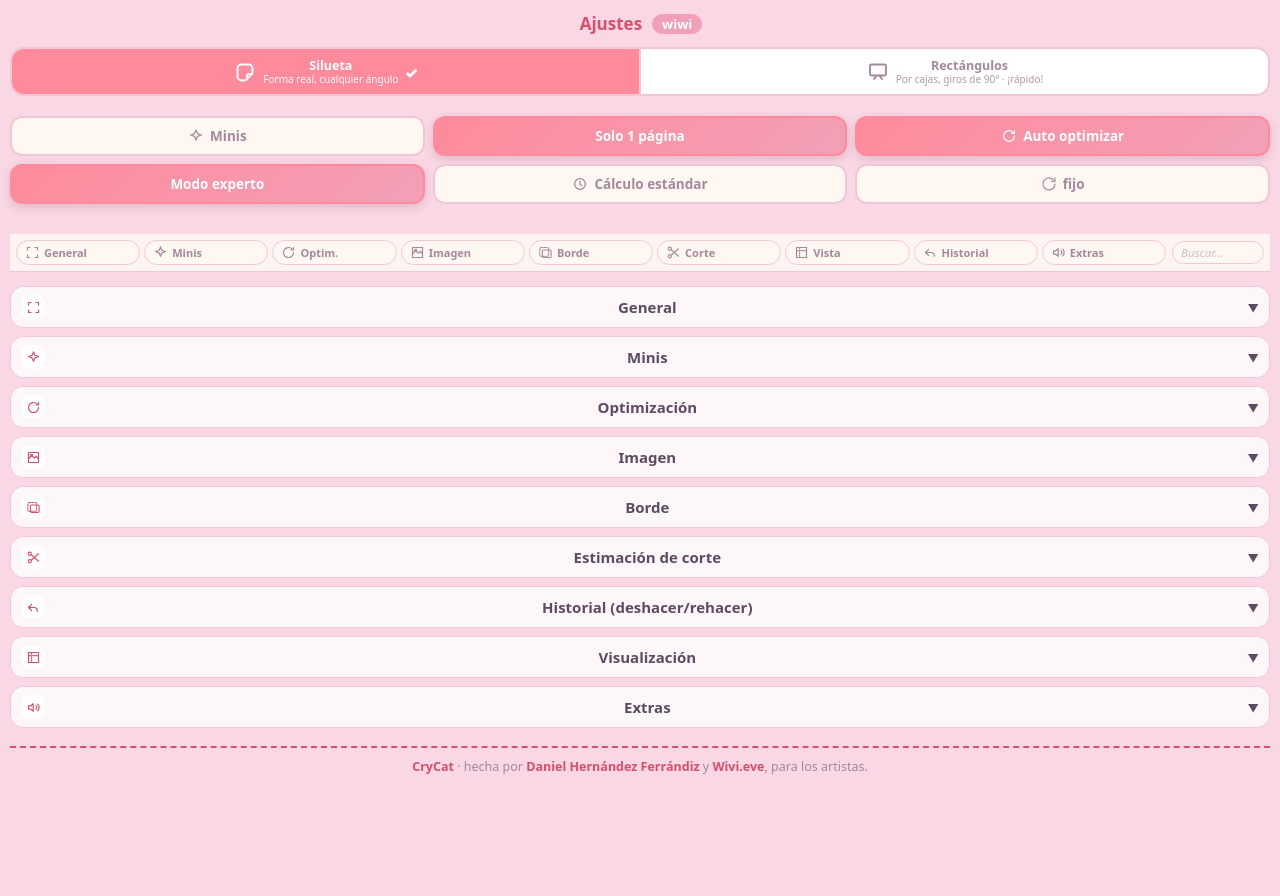
Scenario: Panel de ajustes › General empieza MINIMIZADO y se abre al pulsarlo
Click the 2nd text "General" at (647, 307), box [618,297,677,317]
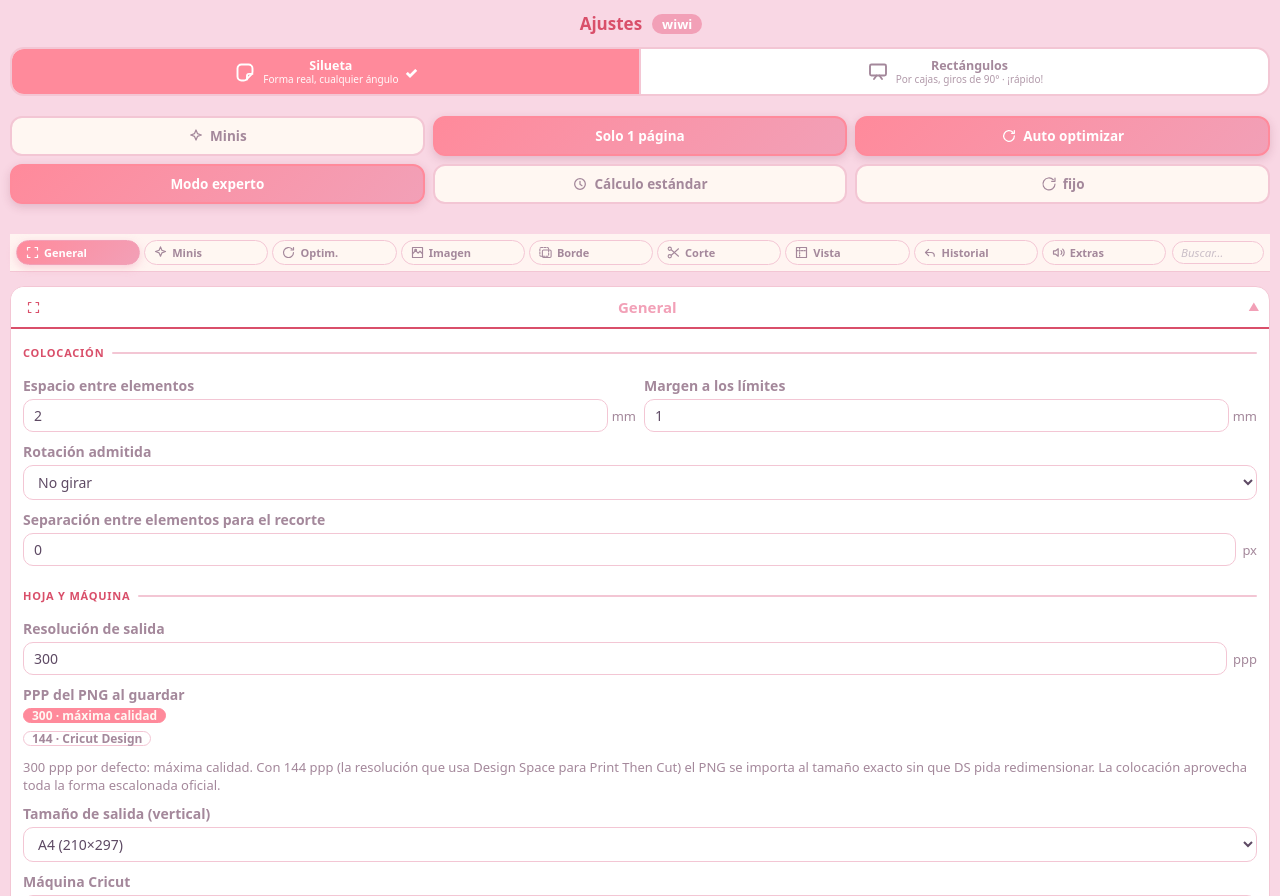
expect the number field with test id "set-espacio_mm" holds "2": met, box [23,399,608,432]
expect the dropdown with test id "set-rotacion" shows "No girar": met, box [23,465,1257,500]
expect the number field with test id "set-dpi_salida" holds "300": met, box [23,642,1227,675]
